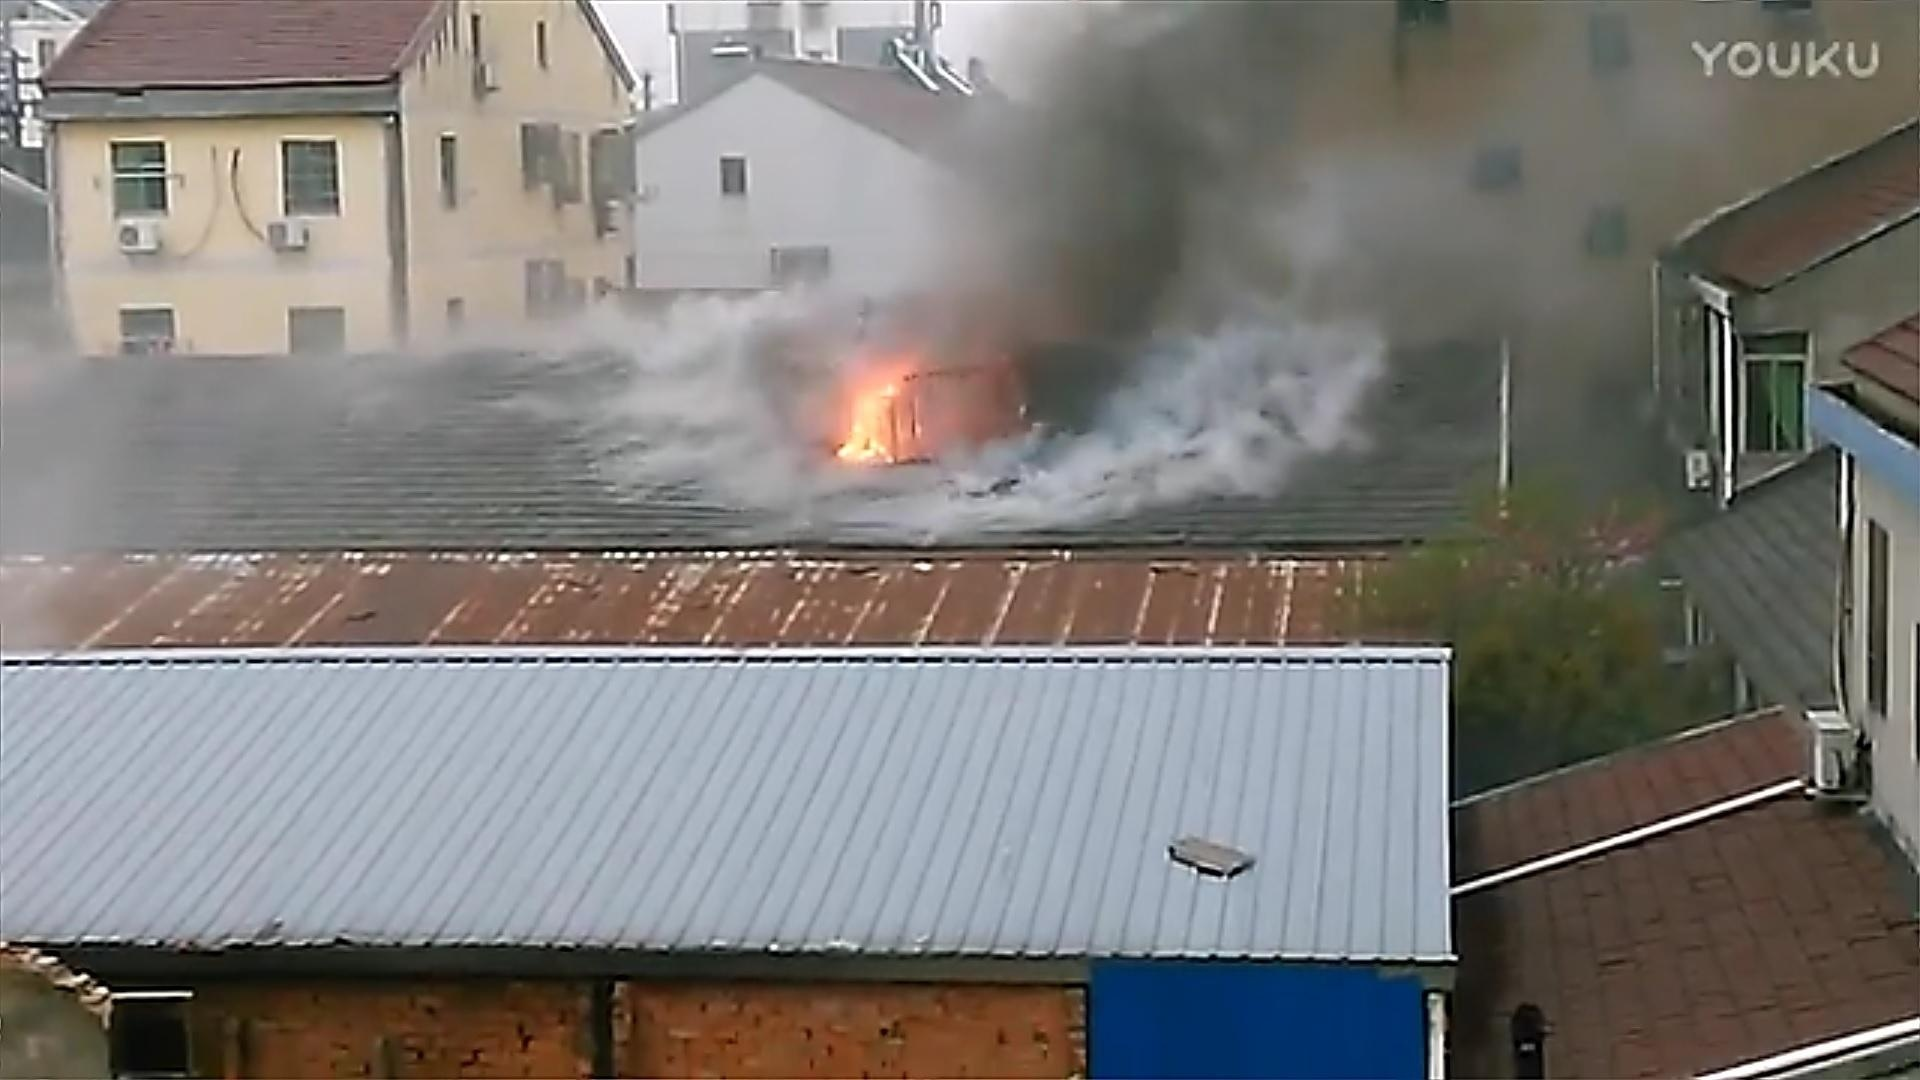fire: (833, 357, 922, 465)
